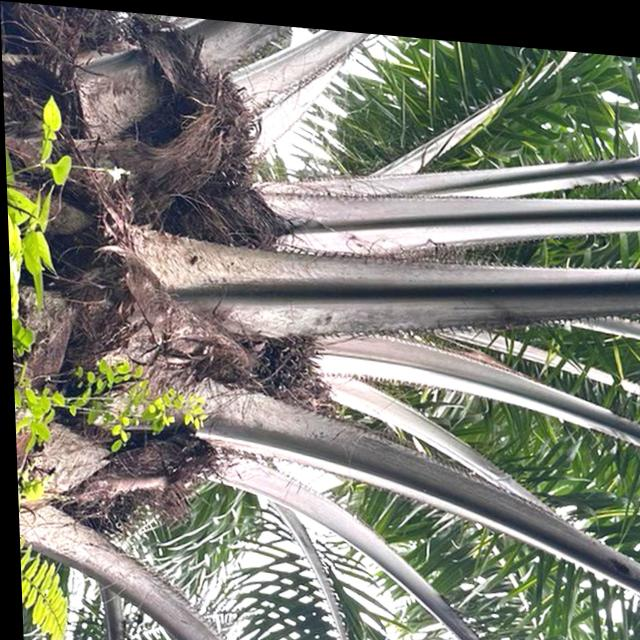unripe: (185, 292, 332, 416)
